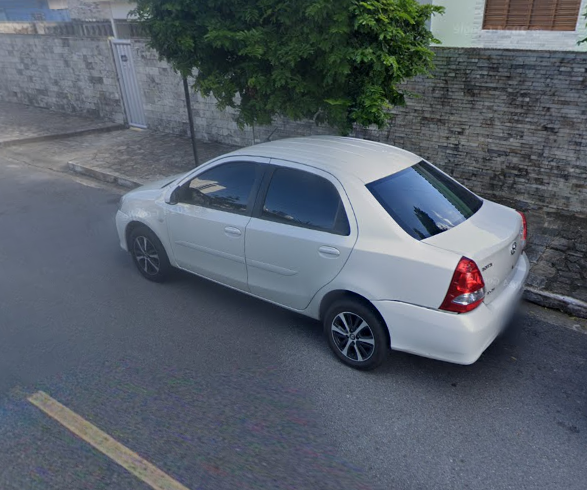car: (114, 125, 532, 372)
